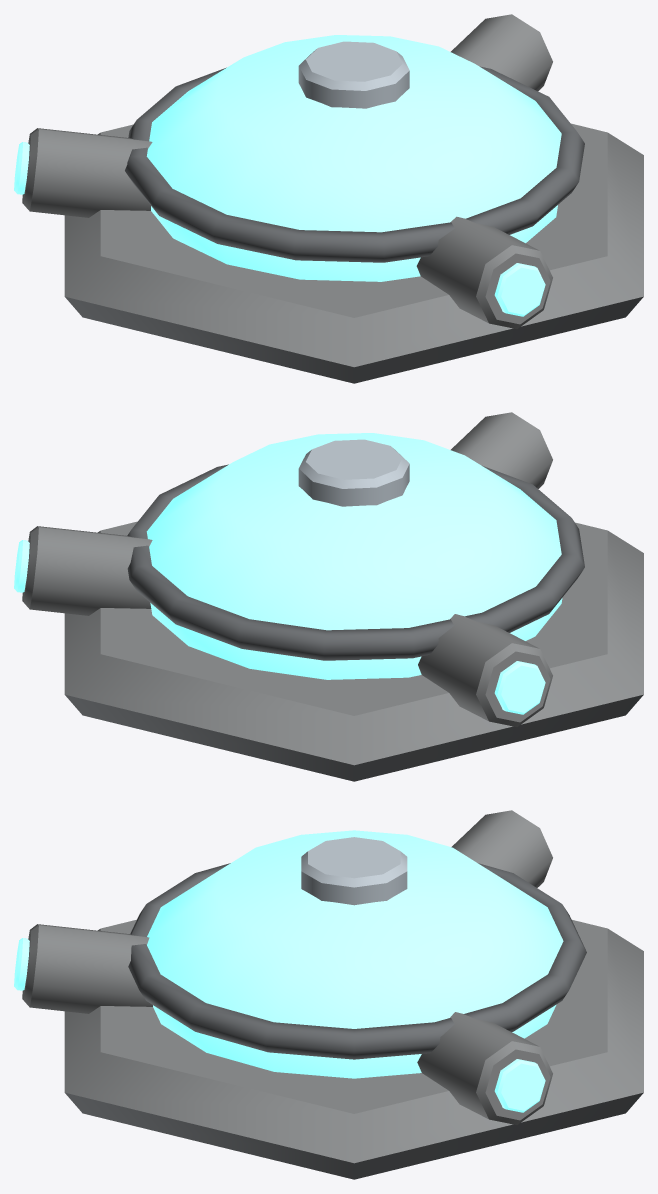
The model's file is R4D_SlowTrap.glb.
3 renders of one model, top to bottom at view 1: azimuth 30°, elevation 25°; view 2: azimuth 150°, elevation 25°; view 3: azimuth 270°, elevation 25°, orthographic.
Parts seen in each view (by area): view 1: R4D_SlowTrap_Body; view 2: R4D_SlowTrap_Body; view 3: R4D_SlowTrap_Body.
Part boxes in pixels (x1,y1,x2,y2): R4D_SlowTrap_Body: (14, 14, 643, 383); R4D_SlowTrap_Body: (14, 412, 643, 781); R4D_SlowTrap_Body: (14, 810, 643, 1179).
Size of the model in its own units: 0.48 by 0.15 by 0.452.
